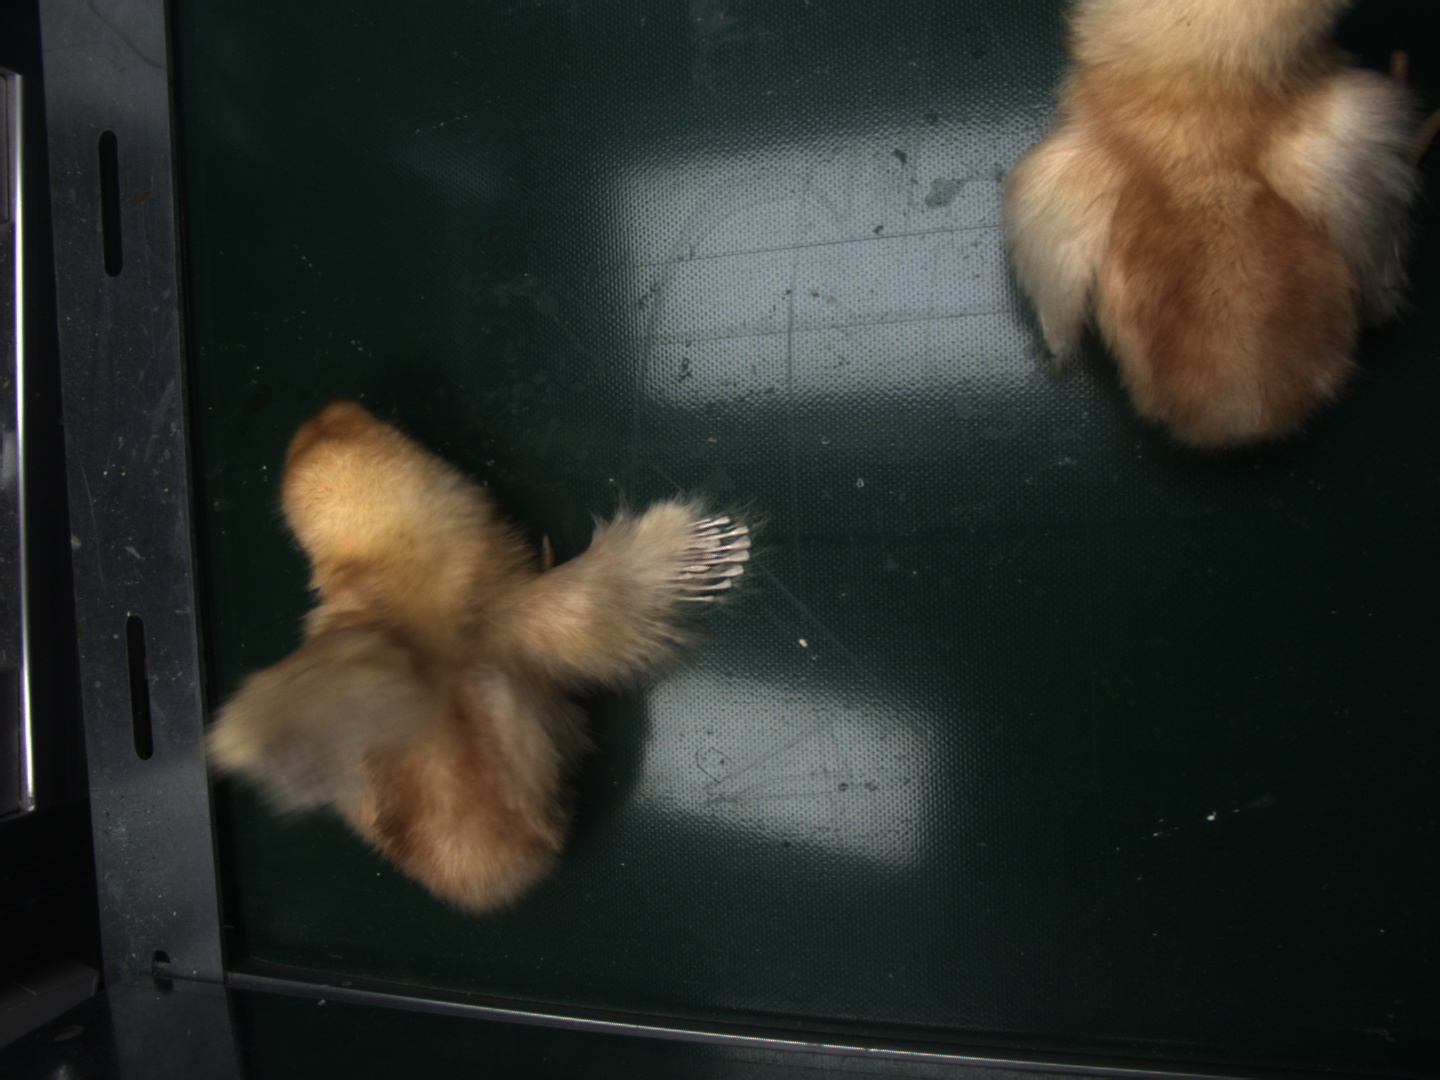female: (676, 517, 755, 596)
